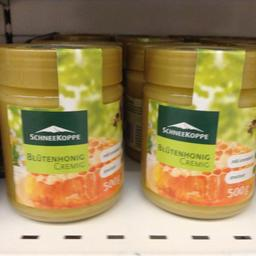honey: (0, 42, 129, 223), (136, 44, 255, 220)
